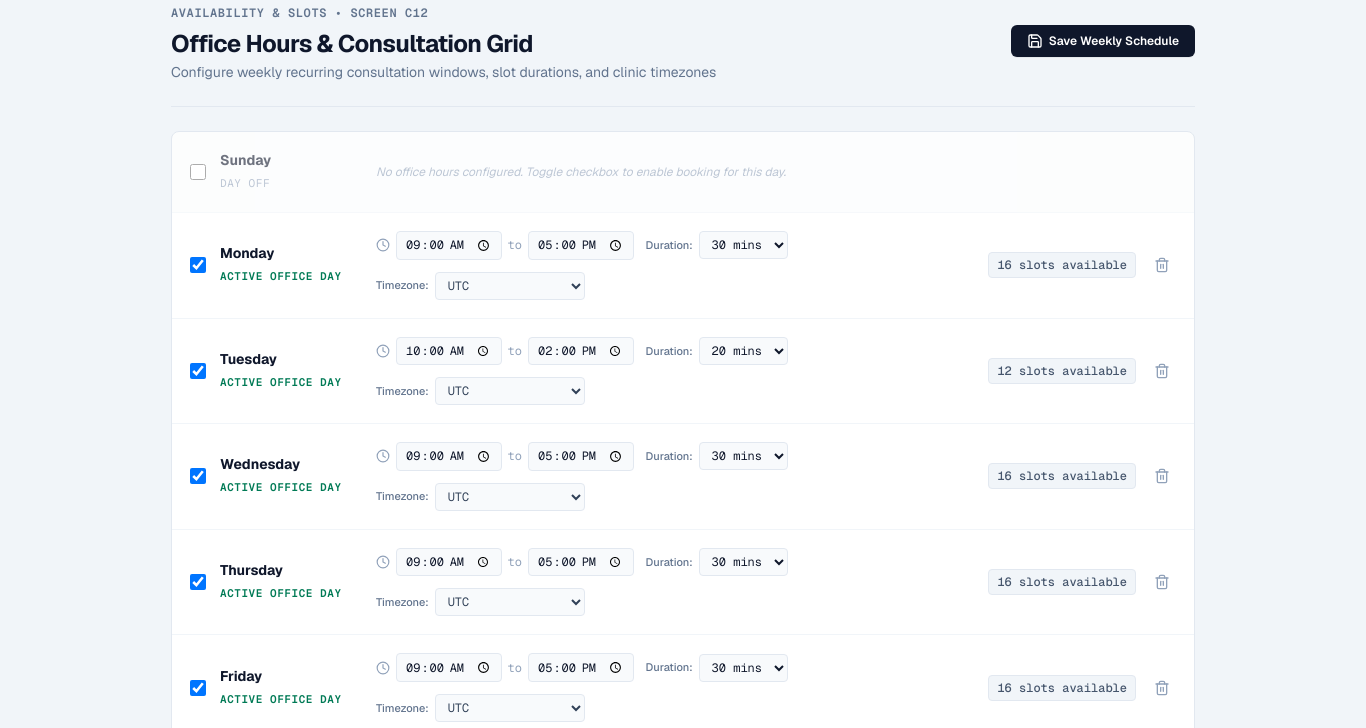
it: DoctorScheduleSettings Component (Screen C12) › saves weekly schedule via PUT /api/doctor/schedules endpoint
The width and height of the screenshot is (1366, 728).
Expected: the text "Monday" is shown, x1=220 y1=244 x2=274 y2=262
Step 1. Click the button "Save Weekly Schedule" → (1103, 41), box x1=1011 y1=25 x2=1195 y2=57
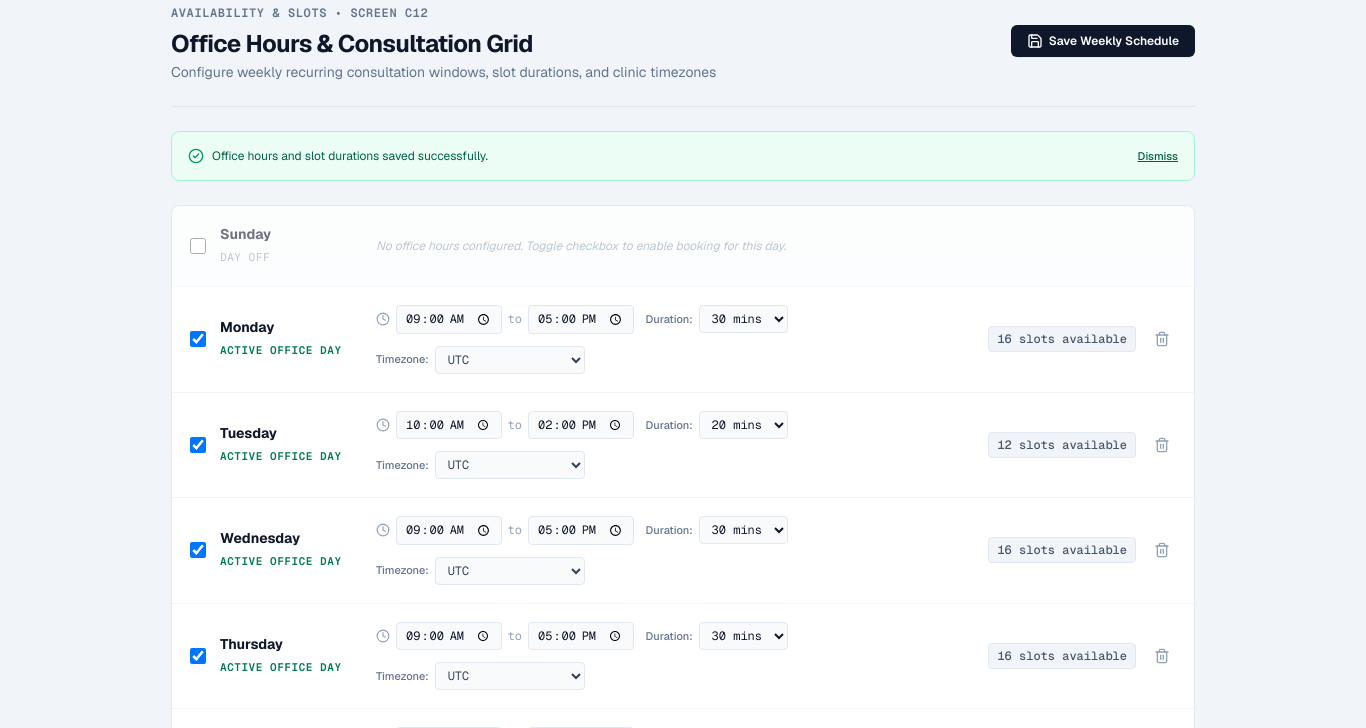
Now the text "Office hours and slot durations saved successfully." is shown, box x1=212 y1=148 x2=488 y2=164
